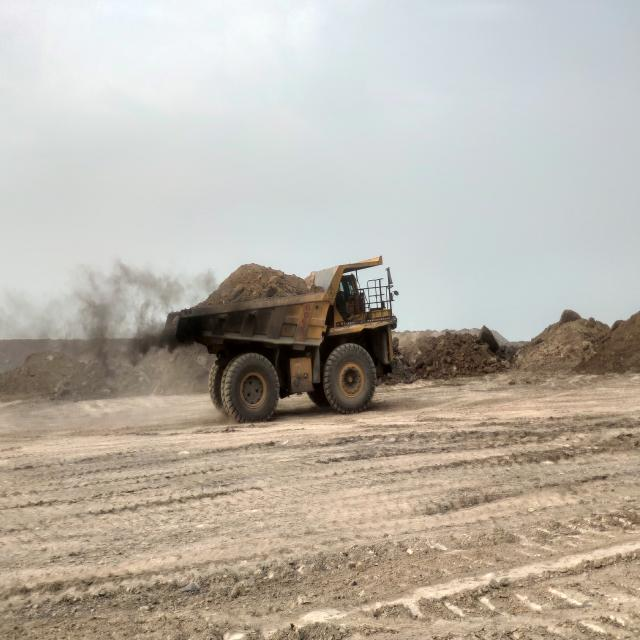dump_truck: (166, 257, 398, 423)
